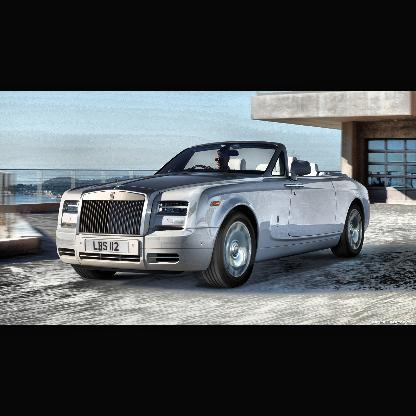Rolls-Royce Phantom Drophead Coupe Convertible 2012: (55, 141, 371, 282)
